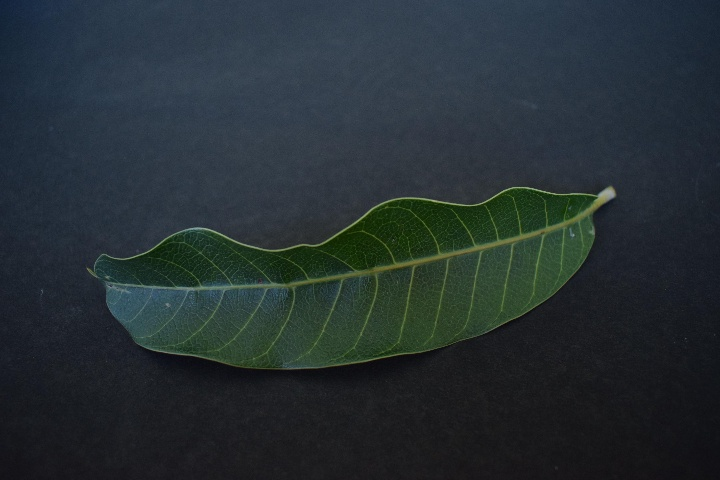healthy: (83, 181, 616, 374)
